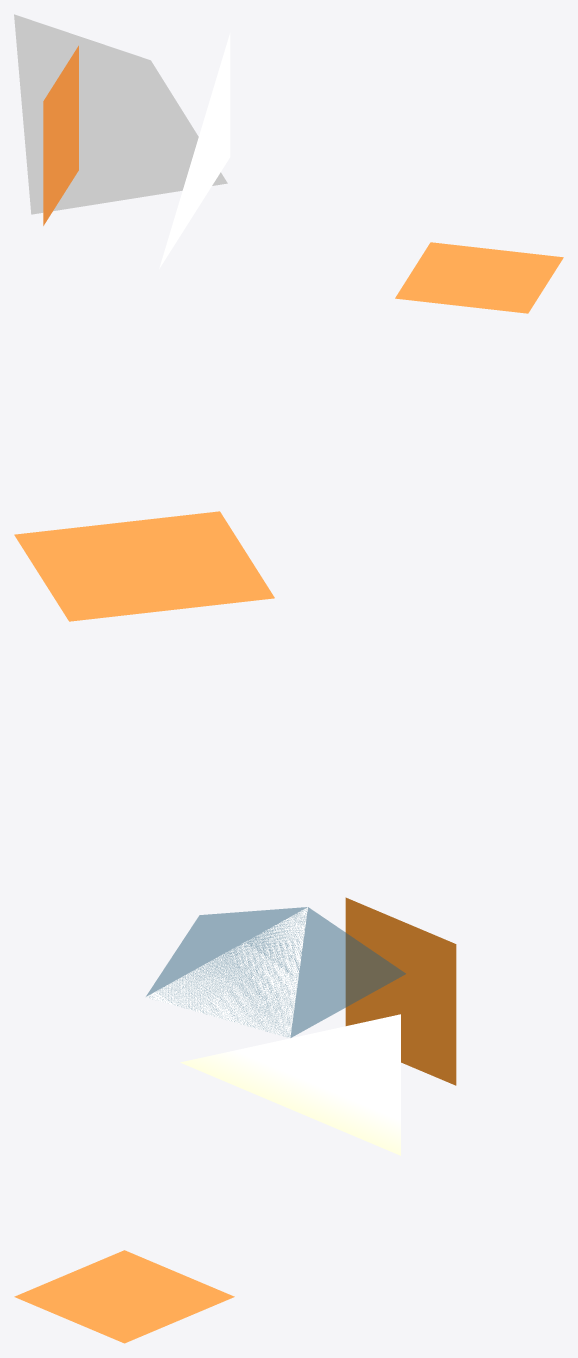
The picture shows the model from 3 angles, top to bottom: view 1: azimuth 30°, elevation 25°; view 2: azimuth 150°, elevation 25°; view 3: azimuth 270°, elevation 25°; orthographic projection. The views are drawn at different scales.
Visible parts, largest first — view 1: Sparse, Child.Box, a b[c]:d/e, Box; view 2: Child.Box; view 3: Dup, a b[c]:d/e, Box, Child.Box.
Boxes of the visible parts, <box> form: Sparse: <box>14,14,227,214</box>; Child.Box: <box>395,242,563,313</box>; a b[c]:d/e: <box>159,33,230,268</box>; Box: <box>43,45,78,225</box>; Child.Box: <box>14,511,274,621</box>; Dup: <box>145,907,405,1038</box>; a b[c]:d/e: <box>180,1014,400,1155</box>; Box: <box>345,897,456,1085</box>; Child.Box: <box>14,1250,234,1343</box>.
Bounding box in the file's own units: 7.07 × 3.95 × 7.04.
